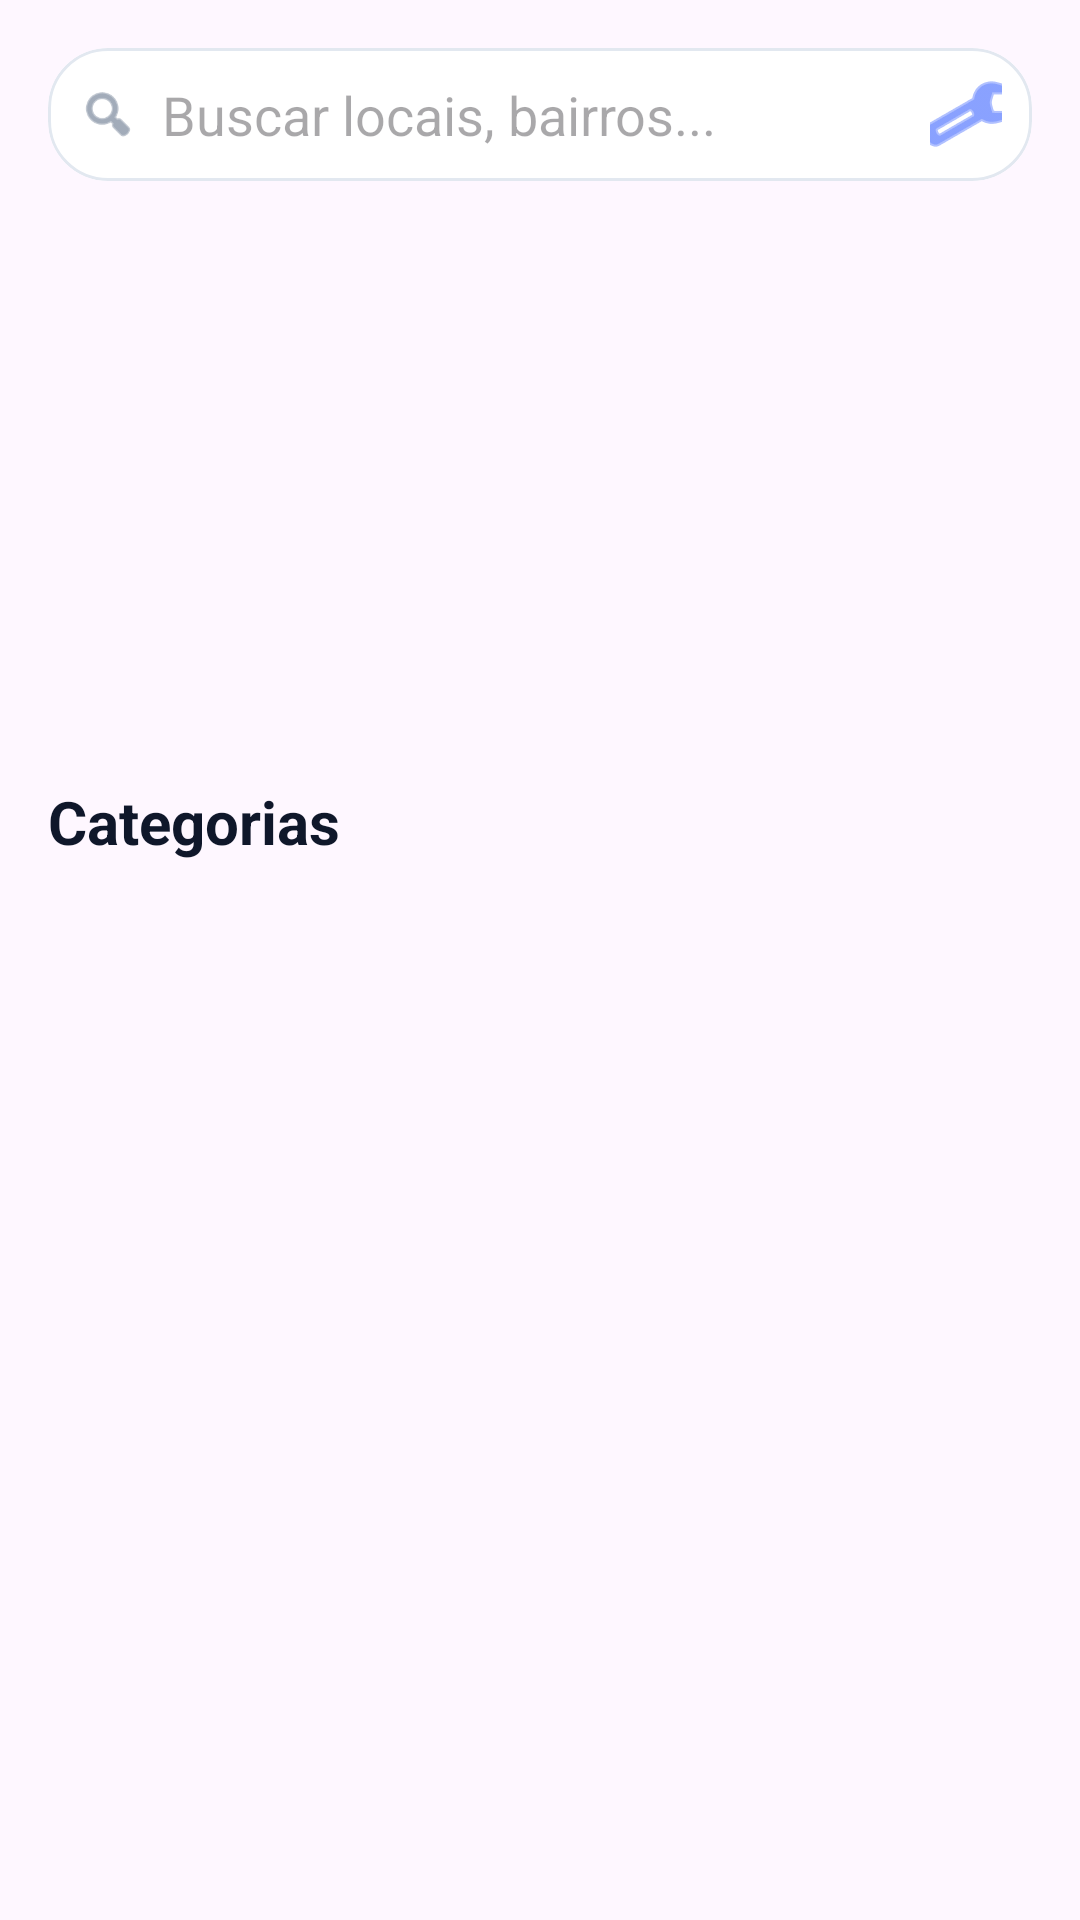

Point at icon controls on the screen. Image size 1080x1920, points as [x,y].
search: [108,114]
